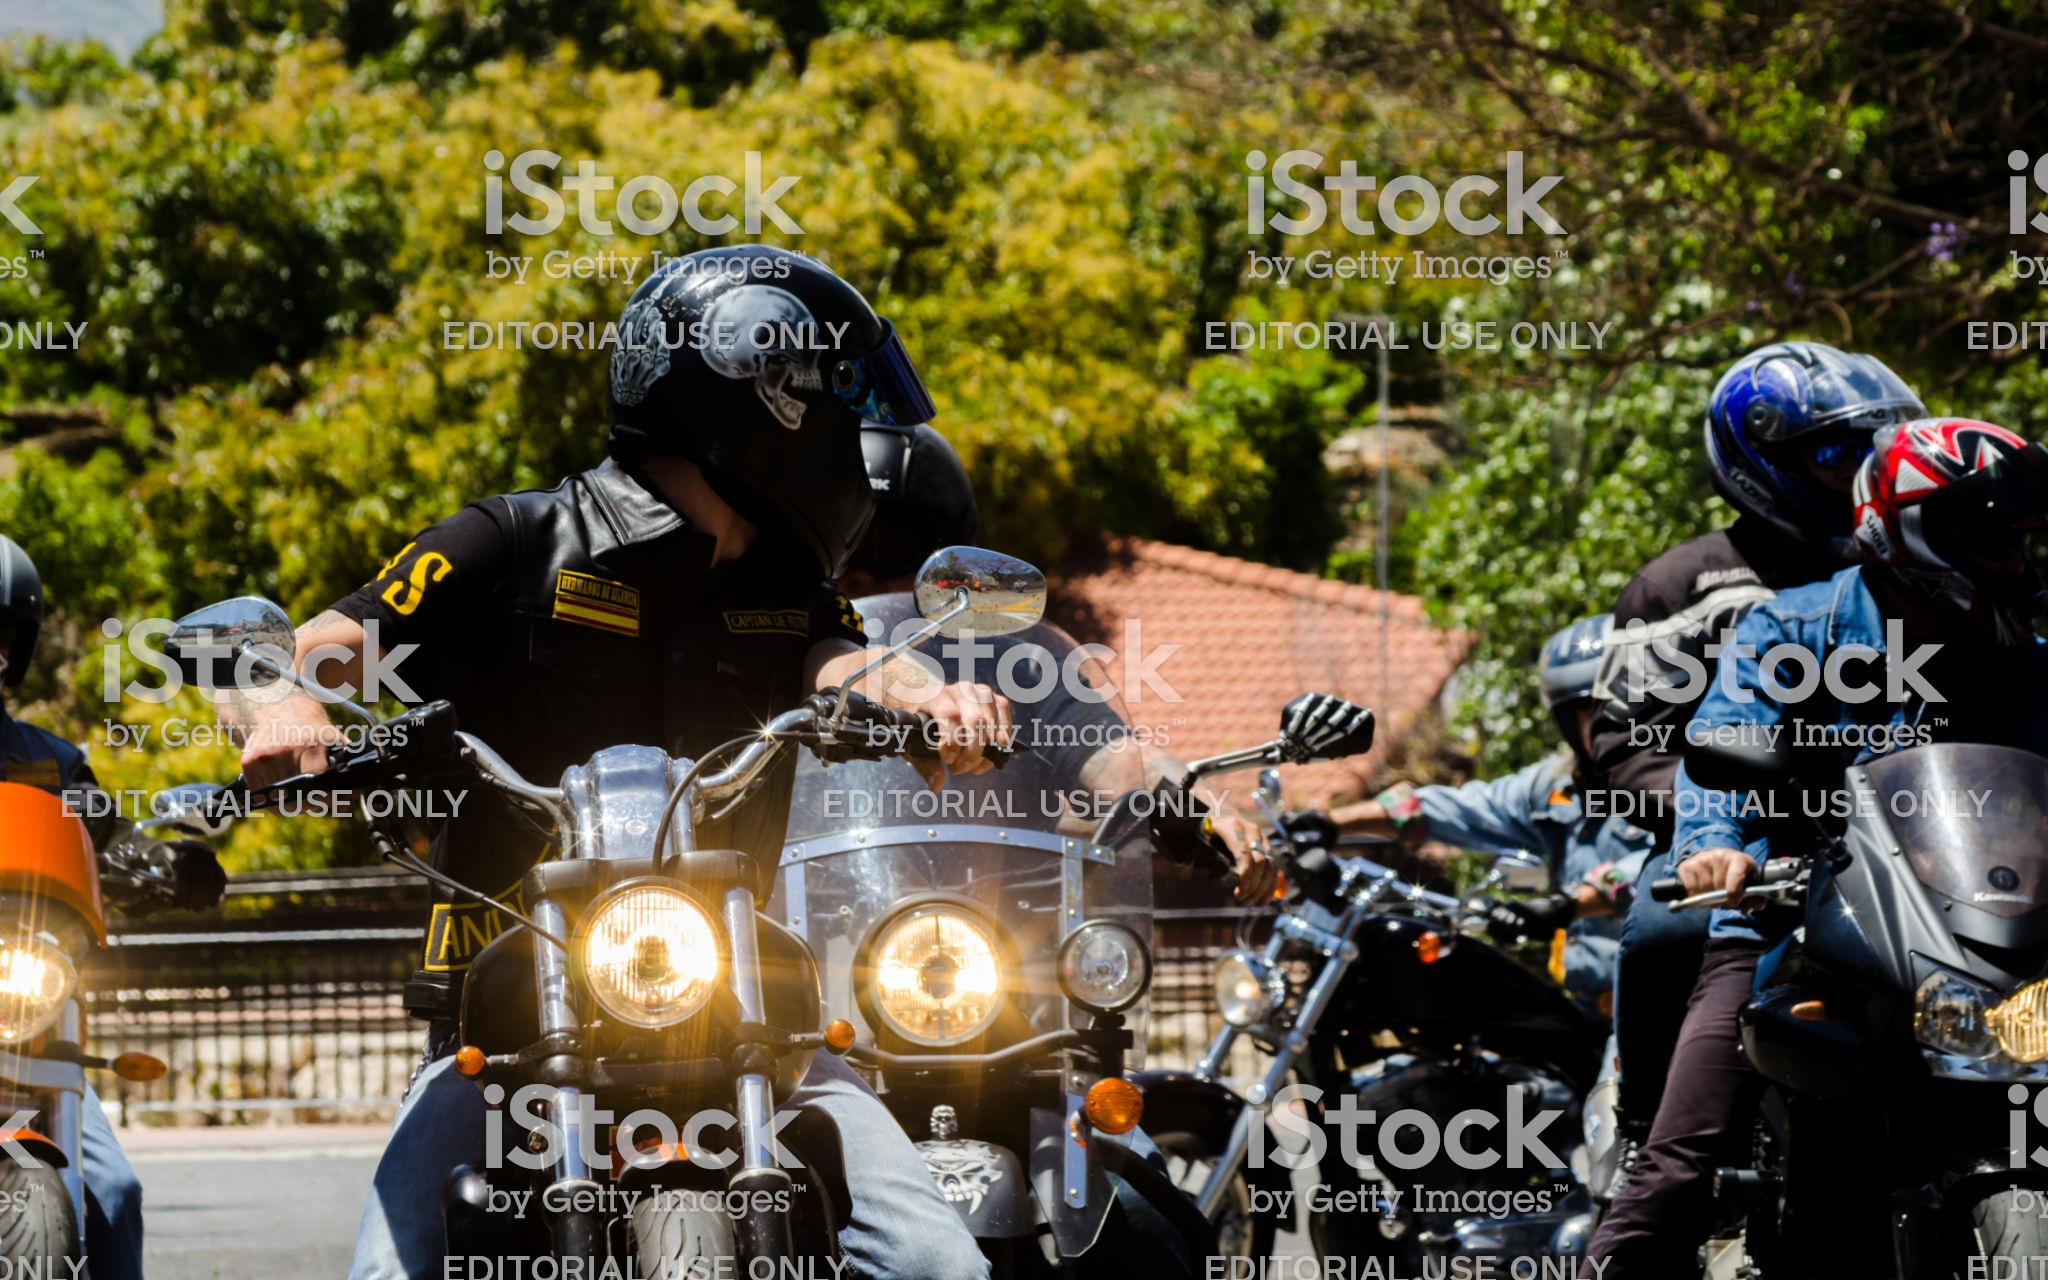helmet: (613, 237, 944, 563), (1703, 320, 1912, 512), (1859, 420, 2048, 616)
